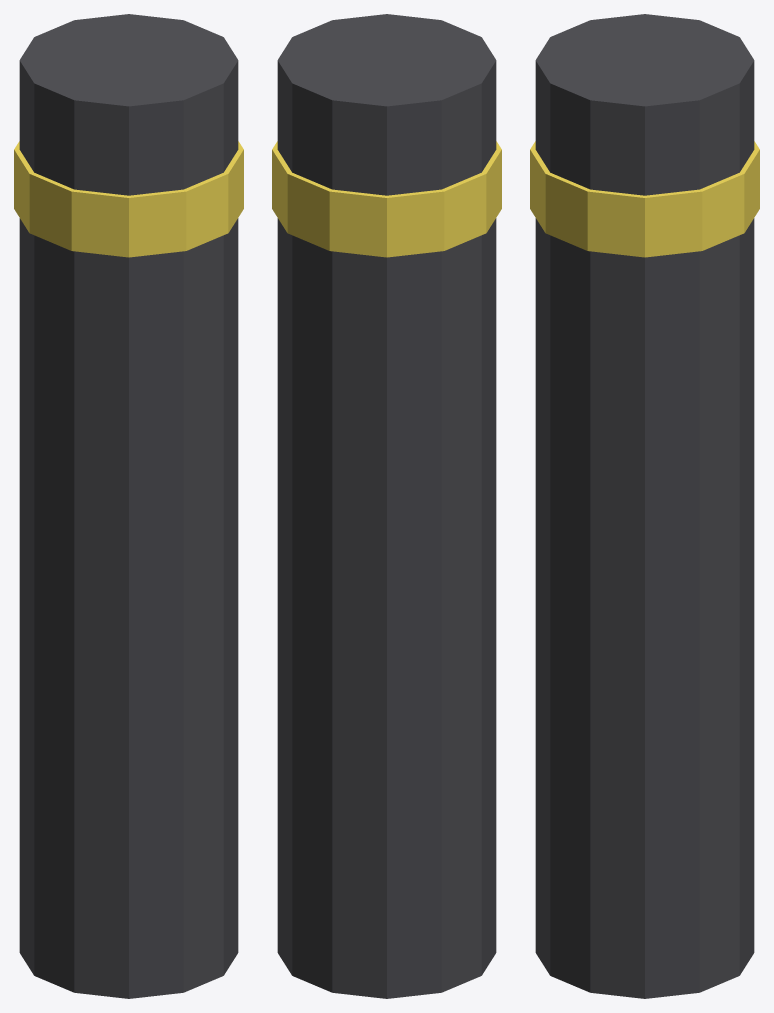
The model's file is SM_Prop_Bollard.glb.
3 renders of one model, left to right at view 1: azimuth 30°, elevation 25°; view 2: azimuth 150°, elevation 25°; view 3: azimuth 270°, elevation 25°, orthographic.
Visible parts, largest first — view 1: SM_Prop_Bollard; view 2: SM_Prop_Bollard; view 3: SM_Prop_Bollard.
Boxes of the visible parts, x1,y1,x2,y2 form: SM_Prop_Bollard: (14, 14, 243, 998); SM_Prop_Bollard: (272, 14, 501, 998); SM_Prop_Bollard: (530, 14, 759, 998).
Bounding box in the file's own units: 0.21 × 0.9 × 0.21.
